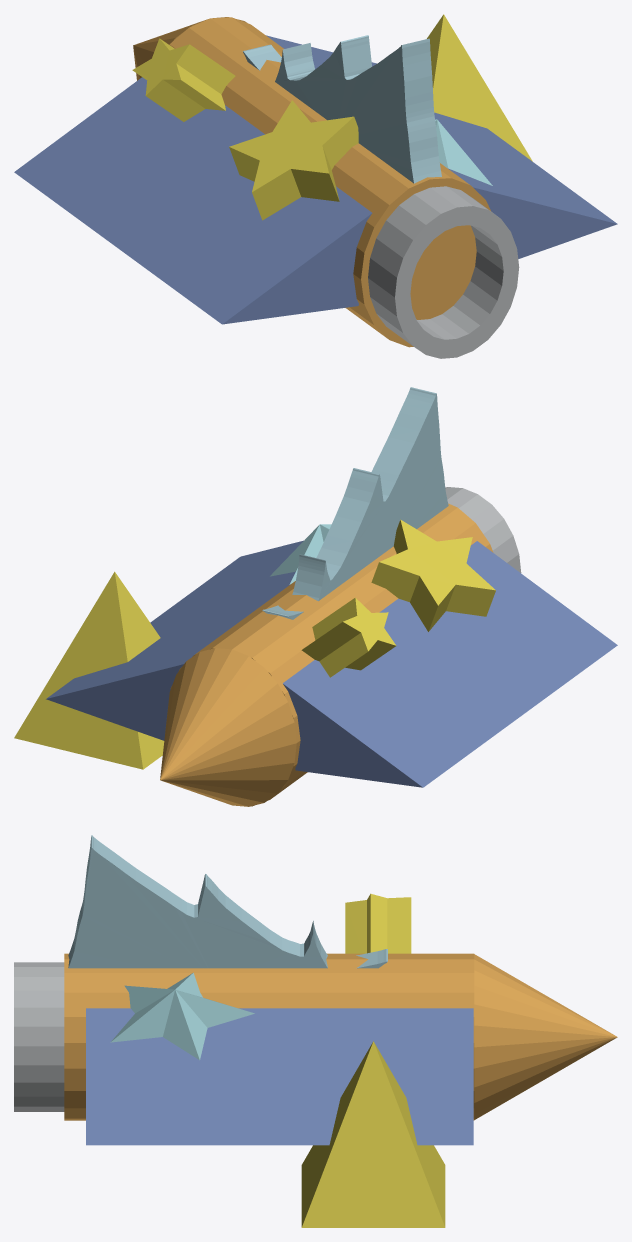
File: ship3.glb
3 views of the same model, one above another, from view 1: azimuth 30°, elevation 25°; view 2: azimuth 150°, elevation 25°; view 3: azimuth 270°, elevation 25° (orthographic). The views are drawn at different scales.
Visible parts, largest first — view 1: Mesh_Mesh_head_geo.001_lambert2SG.001; view 2: Mesh_Mesh_head_geo.001_lambert2SG.001; view 3: Mesh_Mesh_head_geo.001_lambert2SG.001.
Boxes of the visible parts, <box> form: Mesh_Mesh_head_geo.001_lambert2SG.001: <box>14,14,617,358</box>; Mesh_Mesh_head_geo.001_lambert2SG.001: <box>14,387,617,806</box>; Mesh_Mesh_head_geo.001_lambert2SG.001: <box>14,835,617,1227</box>.
Bounding box in the file's own units: 8 × 5 × 10.
